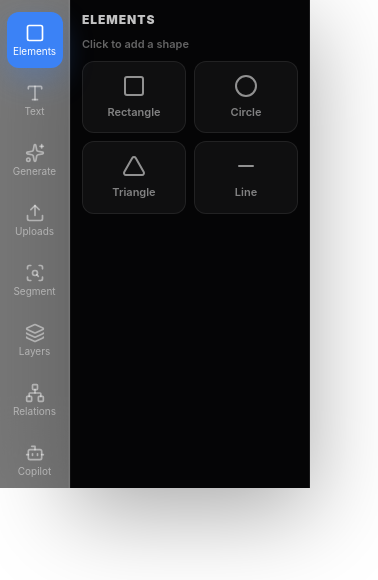
it: LeftSidebar relations › handles an empty relation map
This screenshot has width=378, height=580.
Click the button "Relations": (34, 400) [6,372,62,428]
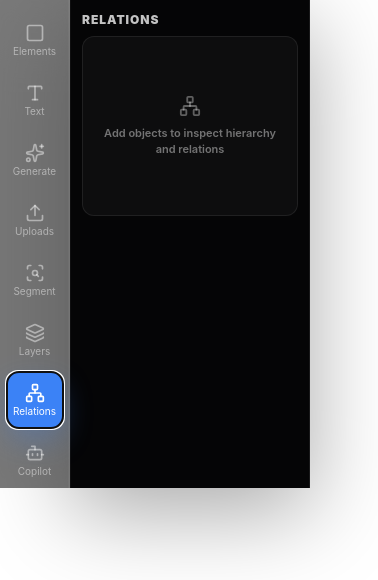
Expected: the text "Add objects to inspect hierarchy and relations" is shown, [99,124,281,158]
